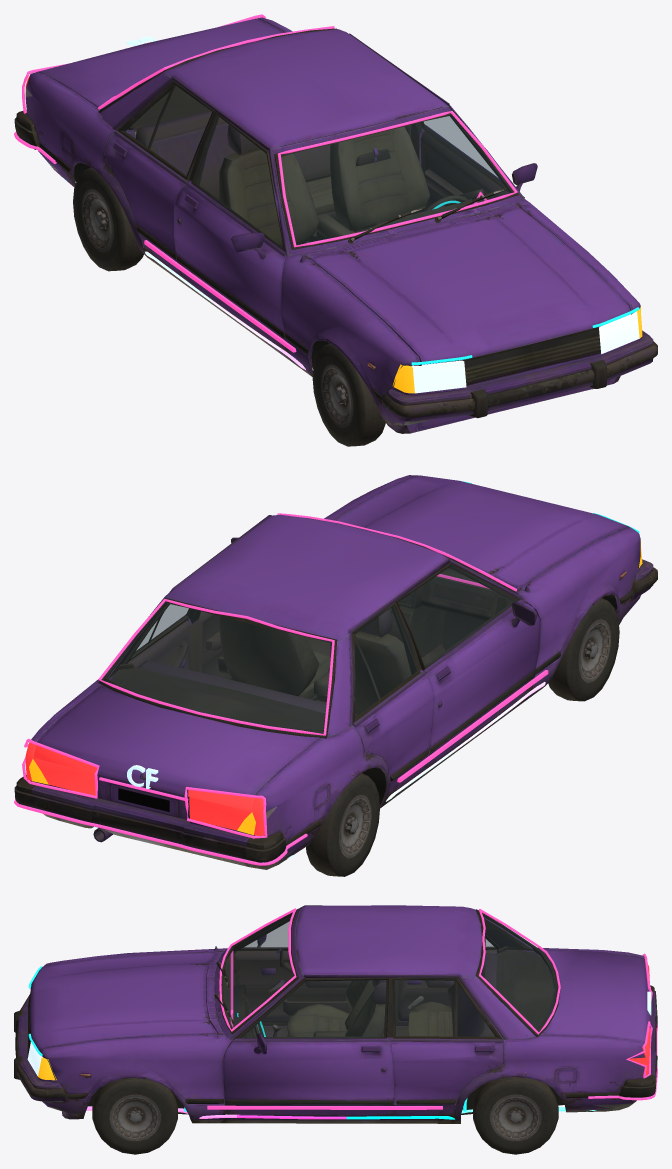
File: car-low.glb
3 views of the same model, one above another, from view 1: azimuth 30°, elevation 25°; view 2: azimuth 150°, elevation 25°; view 3: azimuth 270°, elevation 25° (orthographic). The views are drawn at different scales.
Visible parts, largest first — view 1: body, glass, cockpit_static, wheel_FR, wheel_RR, glass_rear, neon_edges, neon_side, neon_rear, neon_body; view 2: body, glass_rear, cockpit_static, glass, wheel_RR, wheel_FR, neon_rear, neon_tail, neon_side, neon_edges, neon_body, screen_plate; view 3: body, glass, glass_rear, cockpit_static, wheel_RL, wheel_FL, neon_rear, neon_body, neon_side, neon_edges, neon_tail.
Part boxes in pixels (left/top/right/bottom): body: left=14, top=17, right=657, bottom=433; glass: left=193, top=115, right=512, bottom=250; cockpit_static: left=219, top=126, right=489, bottom=247; wheel_FR: left=312, top=343, right=385, bottom=446; wheel_RR: left=73, top=167, right=143, bottom=271; glass_rear: left=110, top=83, right=211, bottom=175; neon_edges: left=277, top=111, right=517, bottom=247; neon_side: left=144, top=240, right=296, bottom=352; neon_rear: left=14, top=26, right=334, bottom=163; neon_body: left=63, top=178, right=313, bottom=370; body: left=14, top=475, right=657, bottom=869; glass_rear: left=102, top=602, right=416, bottom=733; cockpit_static: left=219, top=568, right=513, bottom=716; glass: left=398, top=565, right=517, bottom=667; wheel_RR: left=306, top=773, right=379, bottom=876; wheel_FR: left=548, top=598, right=619, bottom=701; neon_rear: left=14, top=598, right=334, bottom=865; neon_tail: left=22, top=738, right=267, bottom=838; neon_side: left=397, top=670, right=548, bottom=782; neon_edges: left=277, top=513, right=516, bottom=591; neon_body: left=93, top=682, right=545, bottom=858; screen_plate: left=118, top=788, right=169, bottom=811; body: left=14, top=905, right=657, bottom=1123; glass: left=223, top=914, right=386, bottom=1038; glass_rear: left=394, top=914, right=556, bottom=1036; cockpit_static: left=214, top=953, right=452, bottom=1037; wheel_RL: left=473, top=1077, right=558, bottom=1154; wheel_FL: left=92, top=1078, right=177, bottom=1154; neon_rear: left=479, top=909, right=657, bottom=1100; neon_body: left=86, top=1106, right=596, bottom=1119; neon_side: left=207, top=1105, right=442, bottom=1109; neon_edges: left=219, top=908, right=296, bottom=1031; neon_tail: left=626, top=953, right=652, bottom=1078.
Size of the model in its own units: 2.62 by 1.79 by 6.01.
Materials: 25 (3 with a texture image).
